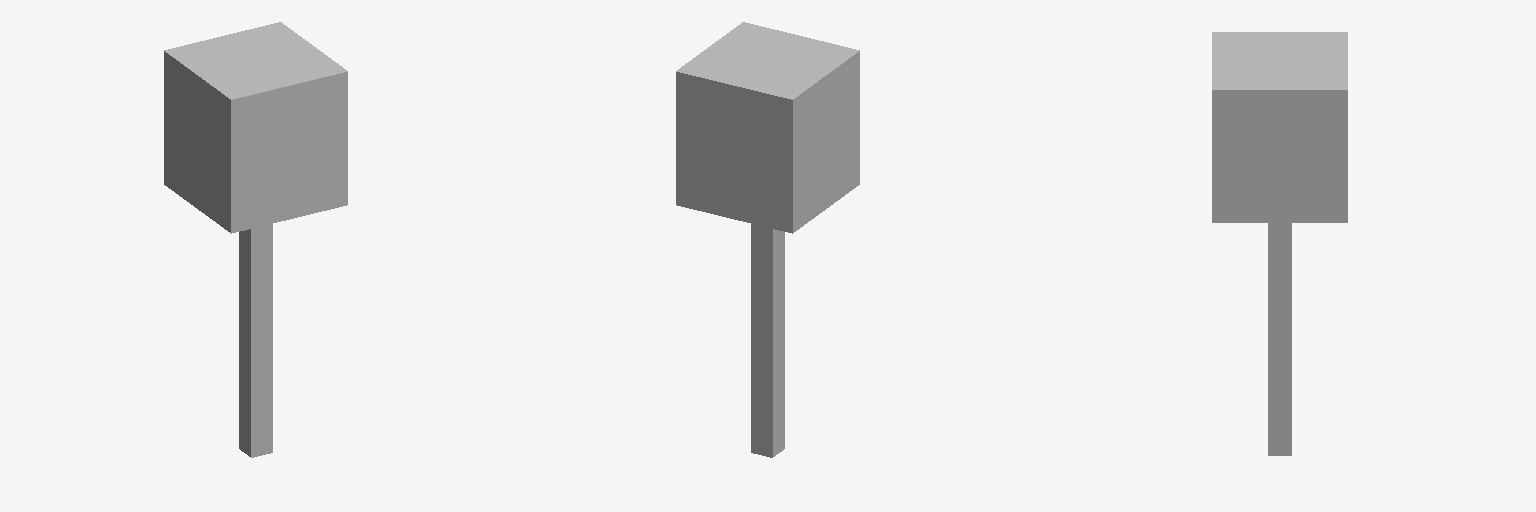
Rendered from Tree.obj.
3 renders of one model, left to right at view 1: azimuth 30°, elevation 25°; view 2: azimuth 150°, elevation 25°; view 3: azimuth 270°, elevation 25°, orthographic.
Bounding box in the file's own units: 22 × 70 × 22.